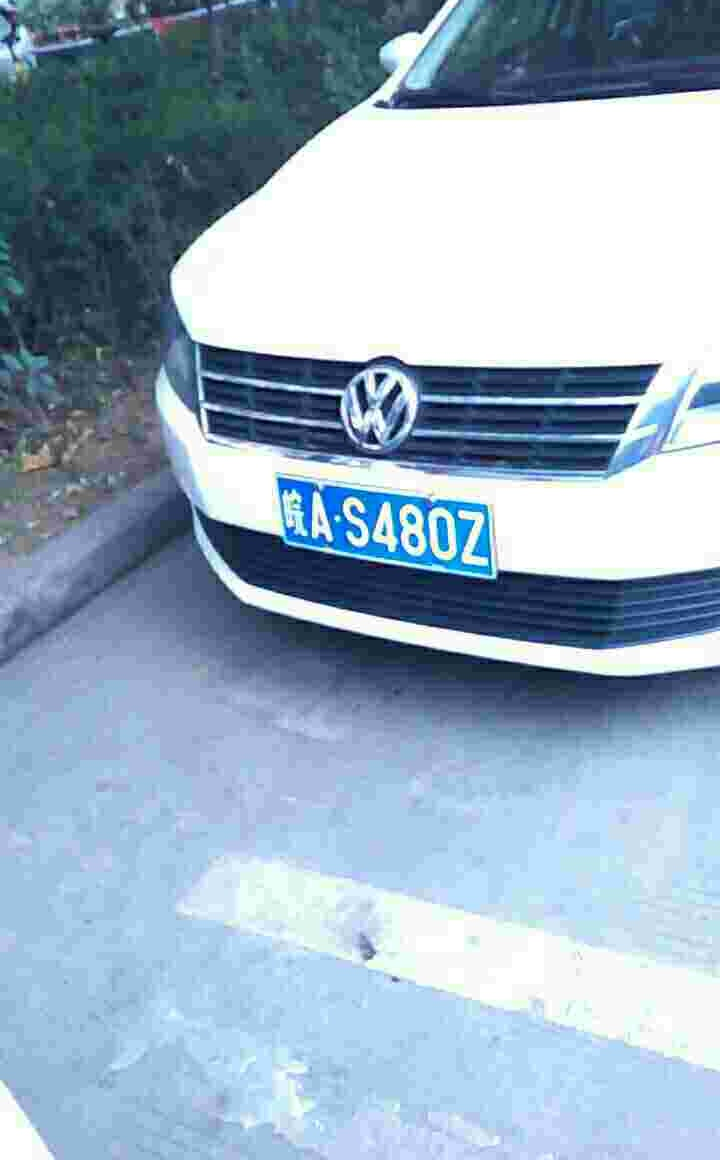plate: (269, 467, 499, 582)
